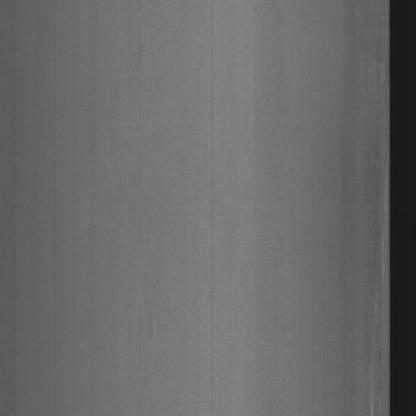silk_spot: (364, 36, 389, 412)
